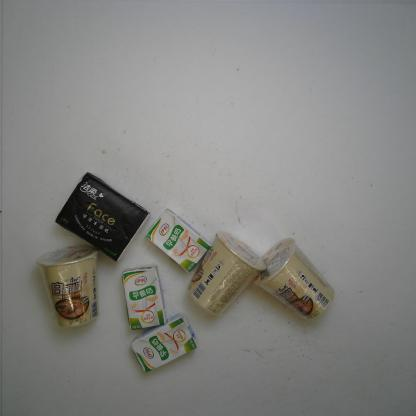Instant Noodles: (252, 238, 334, 321), (187, 230, 266, 315), (35, 243, 100, 328)
Milk: (144, 208, 210, 273), (131, 314, 197, 372), (121, 264, 166, 330)
Tissue: (54, 173, 150, 261)
